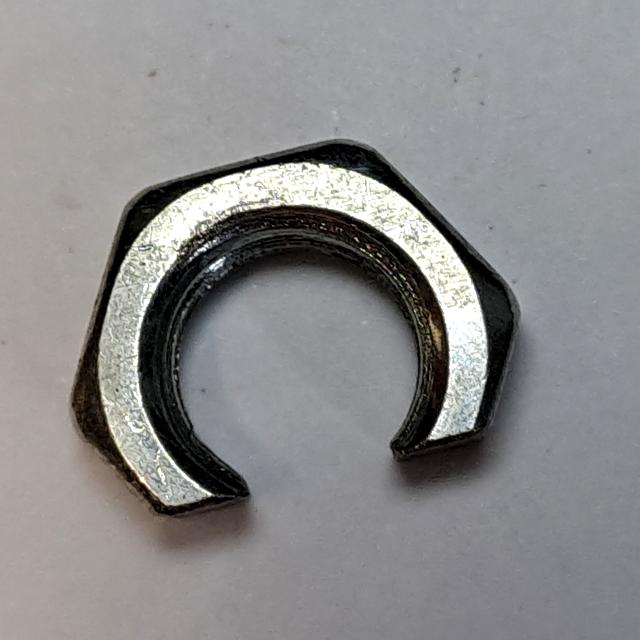Fracture: (49, 124, 535, 545)
